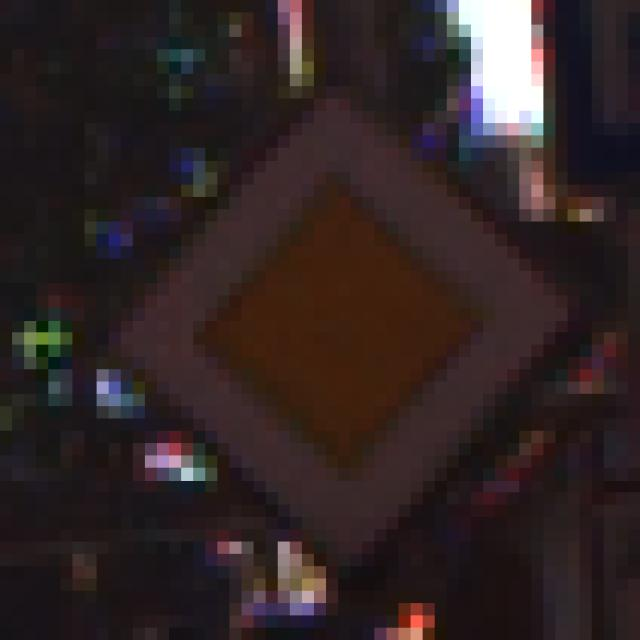Main Road: (74, 63, 581, 580)
